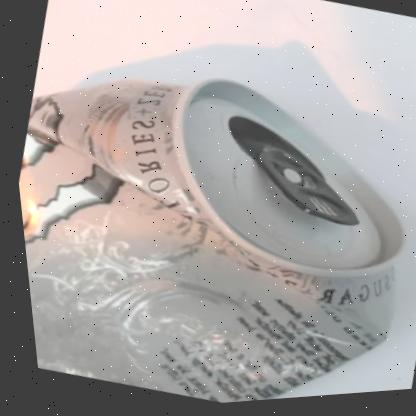Metal: (15, 80, 389, 405)
